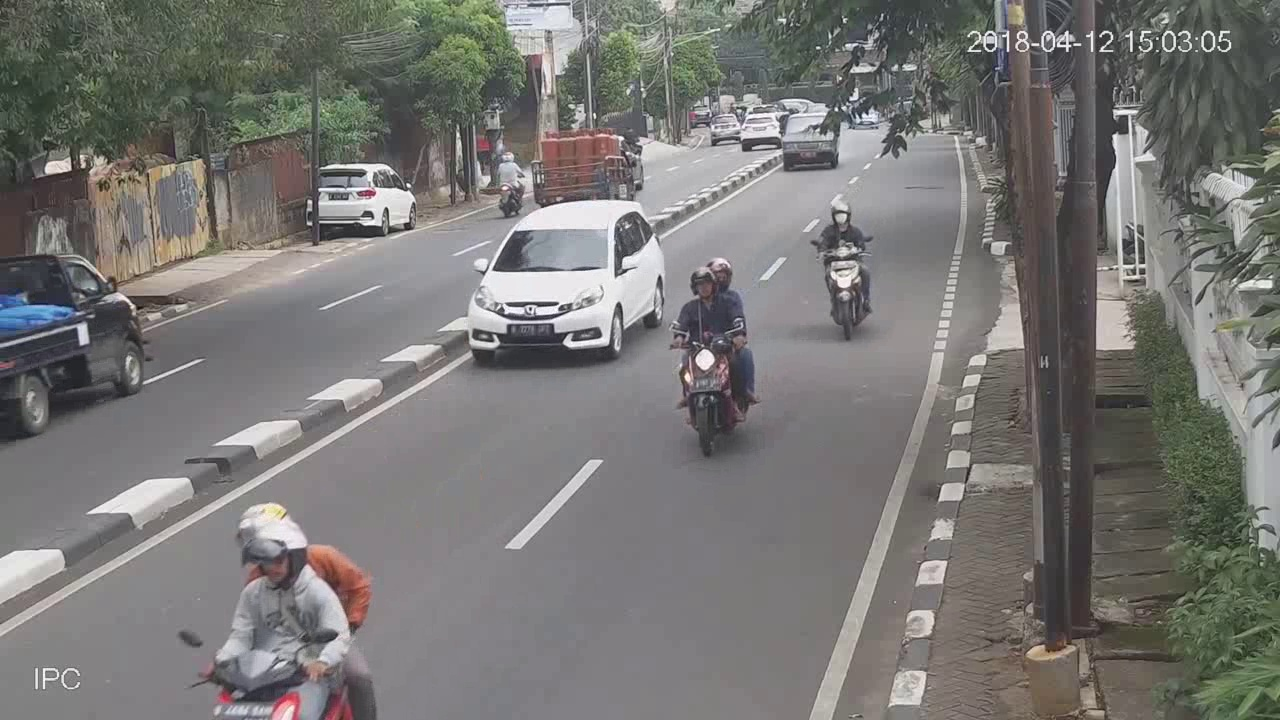car: (466, 200, 669, 368), (307, 155, 419, 246), (783, 113, 839, 170), (740, 113, 781, 151), (712, 116, 739, 146)
motorcycle: (176, 499, 383, 720), (662, 258, 766, 459), (807, 200, 888, 342), (488, 145, 530, 223)
truck: (1, 250, 154, 439)
